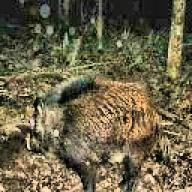boar: (19, 72, 165, 192)
